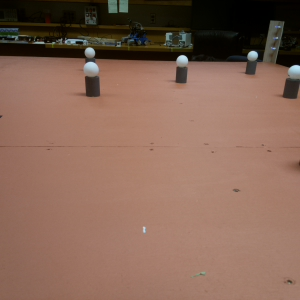obstacle: (83, 63, 100, 99), (285, 65, 298, 101), (174, 54, 188, 85), (83, 47, 97, 68), (246, 50, 257, 75)
